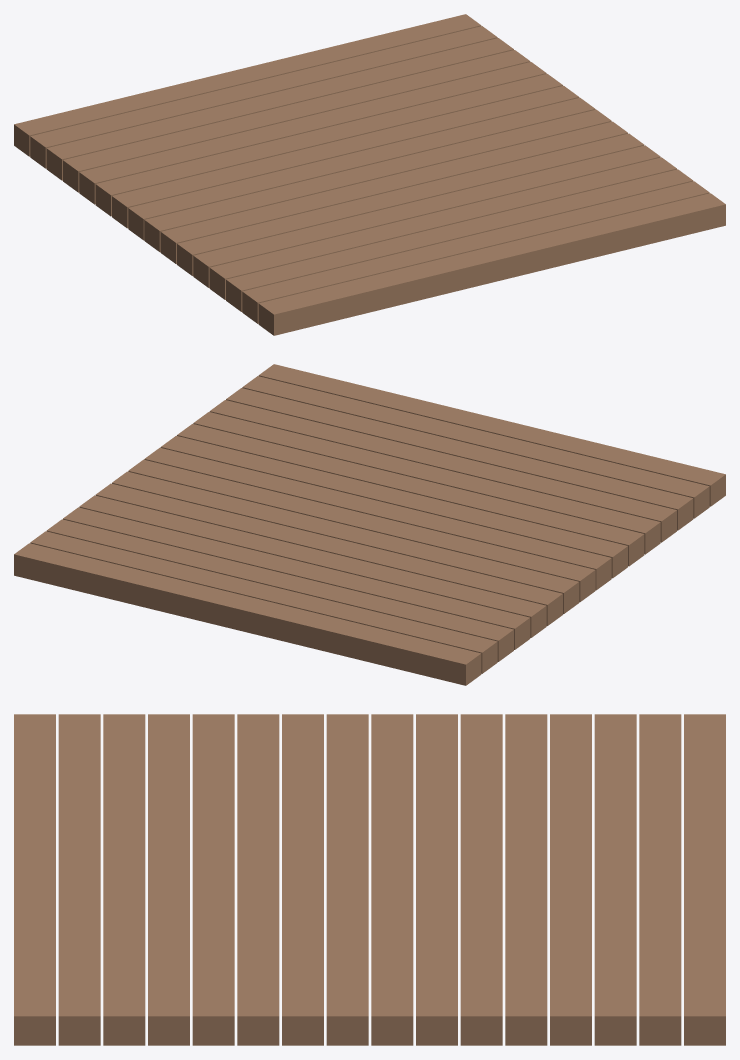
The model's file is sunland_boardwalk.glb.
3 renders of one model, top to bottom at view 1: azimuth 30°, elevation 25°; view 2: azimuth 150°, elevation 25°; view 3: azimuth 270°, elevation 25°, orthographic. The views are drawn at different scales.
Visible parts, largest first — view 1: Plank, Plank.007, Plank.003, Plank.004, Plank.005, Plank.006, Plank.008, Plank.011, Plank.012, Plank.015, Plank.001, Plank.002 (+4 smaller); view 2: Plank.015, Plank.008, Plank.009, Plank.010, Plank.011, Plank.012, Plank, Plank.003, Plank.004, Plank.007, Plank.001, Plank.002 (+4 smaller); view 3: Plank.001, Plank.002, Plank.004, Plank.005, Plank.007, Plank.008, Plank.010, Plank.011, Plank.013, Plank.014, Plank, Plank.003 (+4 smaller).
Boxes of the visible parts, <box> form: Plank: <box>258,193,725,335</box>; Plank.007: <box>144,109,611,252</box>; Plank.003: <box>209,157,676,299</box>; Plank.004: <box>193,145,660,287</box>; Plank.005: <box>177,133,644,275</box>; Plank.006: <box>160,121,627,264</box>; Plank.008: <box>128,97,595,240</box>; Plank.011: <box>79,62,546,204</box>; Plank.012: <box>63,50,530,192</box>; Plank.015: <box>14,14,481,156</box>; Plank.001: <box>242,181,709,323</box>; Plank.002: <box>226,169,693,311</box>; Plank.015: <box>14,543,481,685</box>; Plank.008: <box>128,459,595,602</box>; Plank.009: <box>112,471,579,614</box>; Plank.010: <box>95,483,562,625</box>; Plank.011: <box>79,495,546,637</box>; Plank.012: <box>63,507,530,649</box>; Plank: <box>258,364,725,506</box>; Plank.003: <box>209,400,676,542</box>; Plank.004: <box>193,412,660,554</box>; Plank.007: <box>144,447,611,590</box>; Plank.001: <box>242,376,709,518</box>; Plank.002: <box>226,388,693,530</box>; Plank.001: <box>58,714,100,1045</box>; Plank.002: <box>103,714,145,1045</box>; Plank.004: <box>192,714,234,1045</box>; Plank.005: <box>237,714,279,1045</box>; Plank.007: <box>326,714,368,1045</box>; Plank.008: <box>371,714,413,1045</box>; Plank.010: <box>460,714,502,1045</box>; Plank.011: <box>505,714,547,1045</box>; Plank.013: <box>594,714,636,1045</box>; Plank.014: <box>639,714,681,1045</box>; Plank: <box>14,714,55,1045</box>; Plank.003: <box>148,714,189,1045</box>.
Size of the model in its own units: 4 by 0.18 by 3.98.
